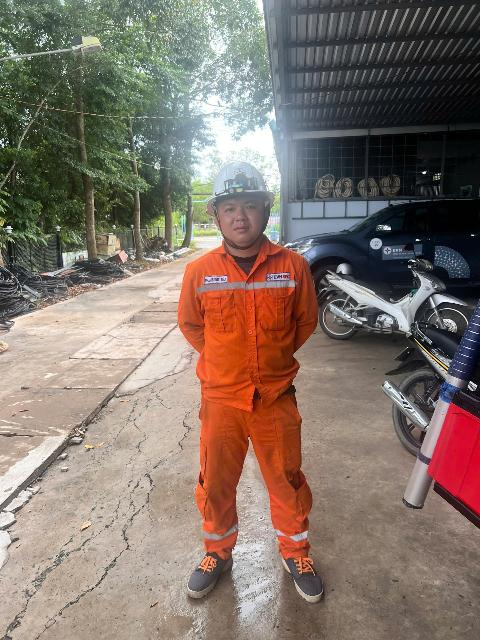helmet: (197, 152, 280, 215)
shoes: (177, 517, 240, 604), (289, 540, 334, 607)
